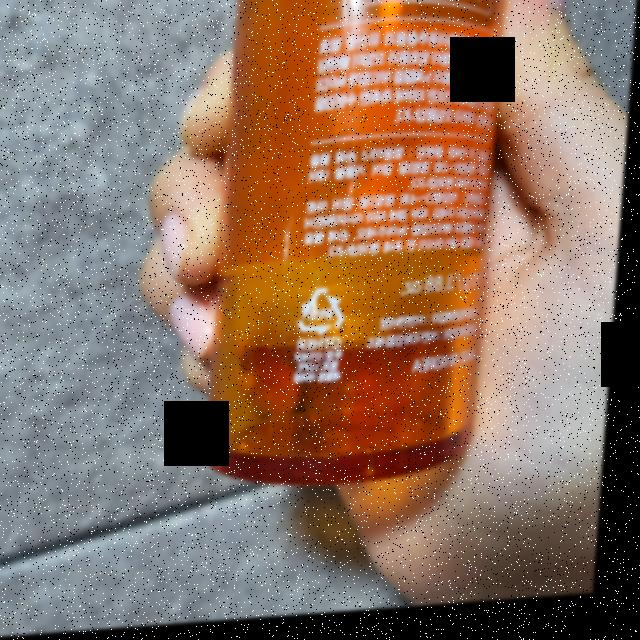Plastic: (299, 289, 354, 343)
